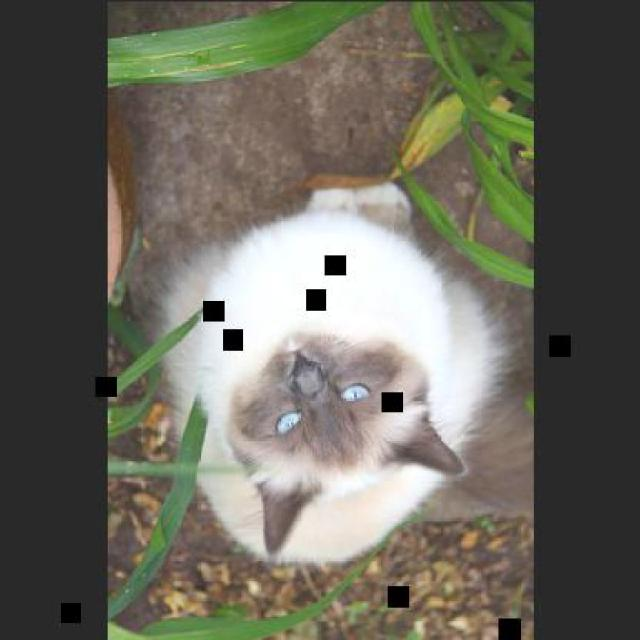unauthorized: (146, 178, 517, 568)
